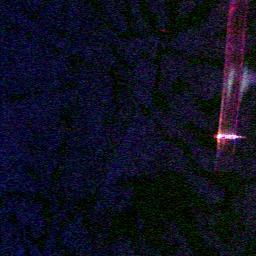Ship: (211, 128, 241, 143)
